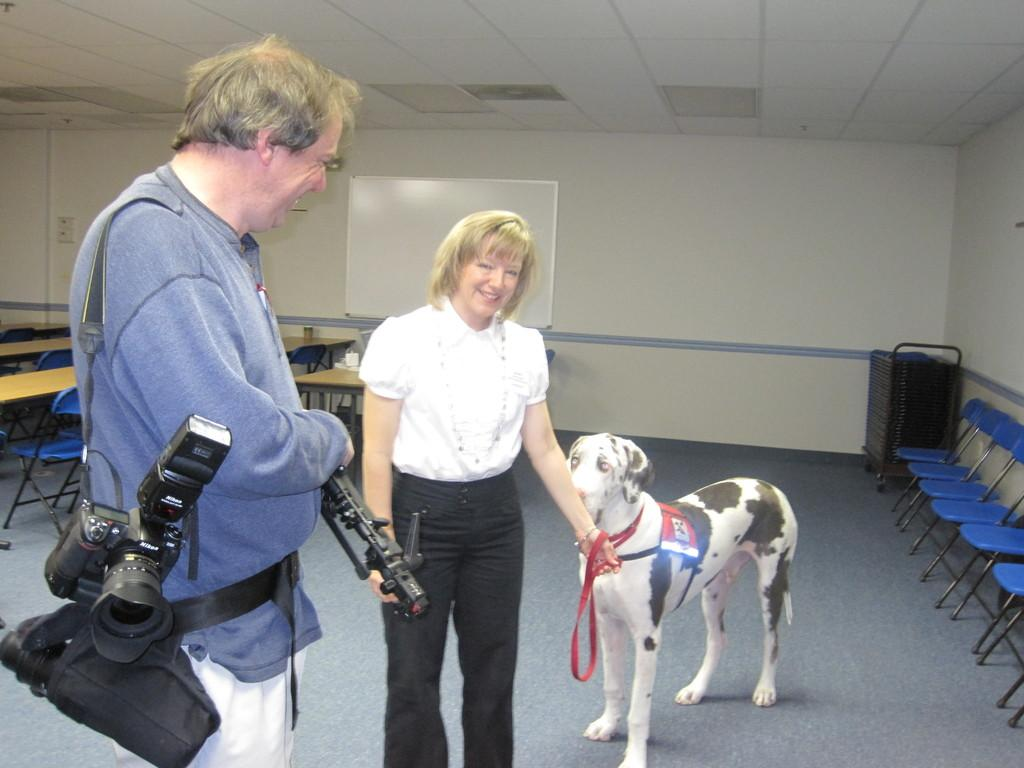Rifle: (317, 470, 437, 621)
